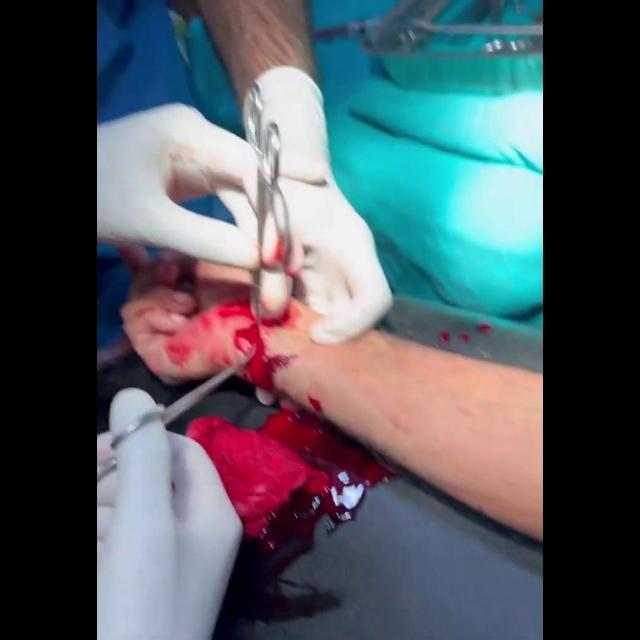blood: (186, 395, 397, 556), (166, 301, 296, 398), (380, 298, 544, 371)
